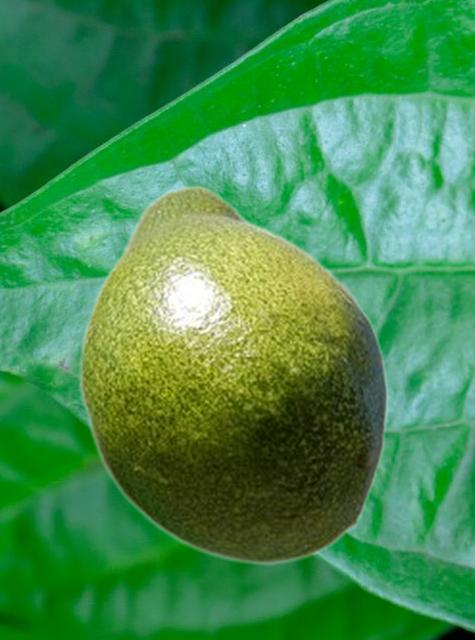avocado: (77, 184, 388, 566)
